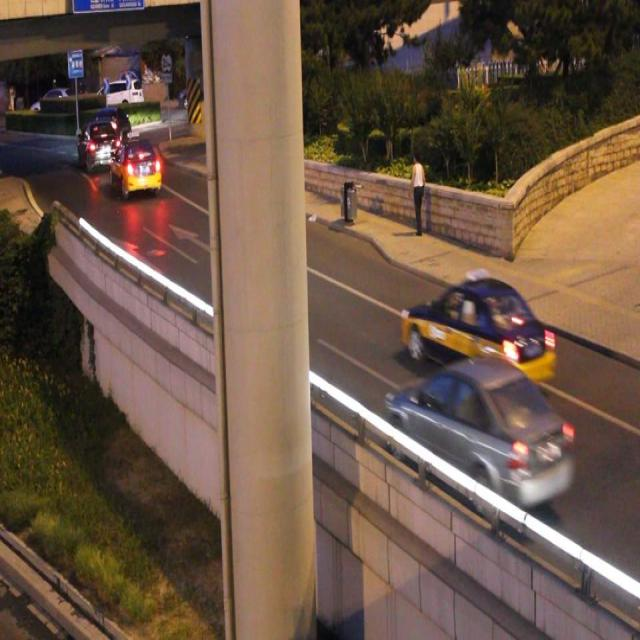car: (389, 360, 572, 506), (405, 276, 554, 384), (112, 139, 160, 193), (79, 122, 120, 168)
